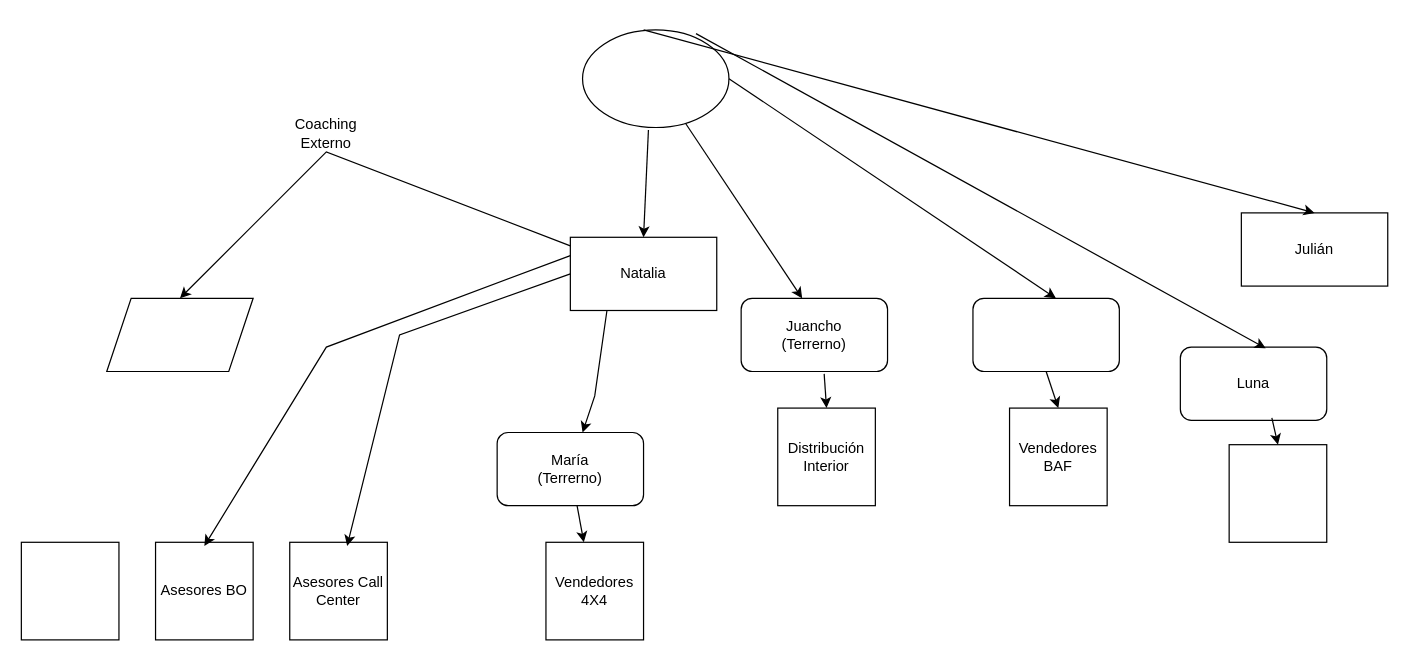
Some shapes in this 1409 by 661 pixel diagram are drawn without their labels. Each missing label, with the centre of its shape:
"Asesores BO Validadores" belongs at pixel 69 590.
"Constanza" belongs at pixel 179 334.
"Distribución Posadas" belongs at pixel 1277 492.
"Fabián" belongs at pixel 655 78.
"Ramon (Terrerno BAF)" belongs at pixel 1045 334.
